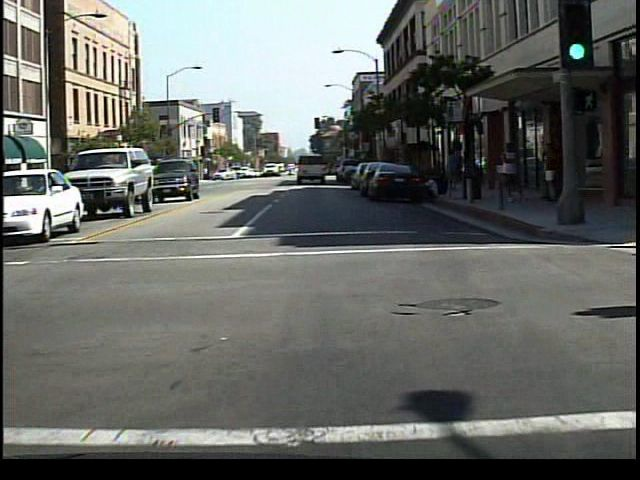person: (496, 137, 531, 212), (442, 142, 465, 198)
